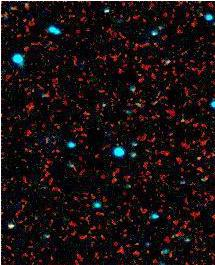star: (184, 142, 214, 172)
